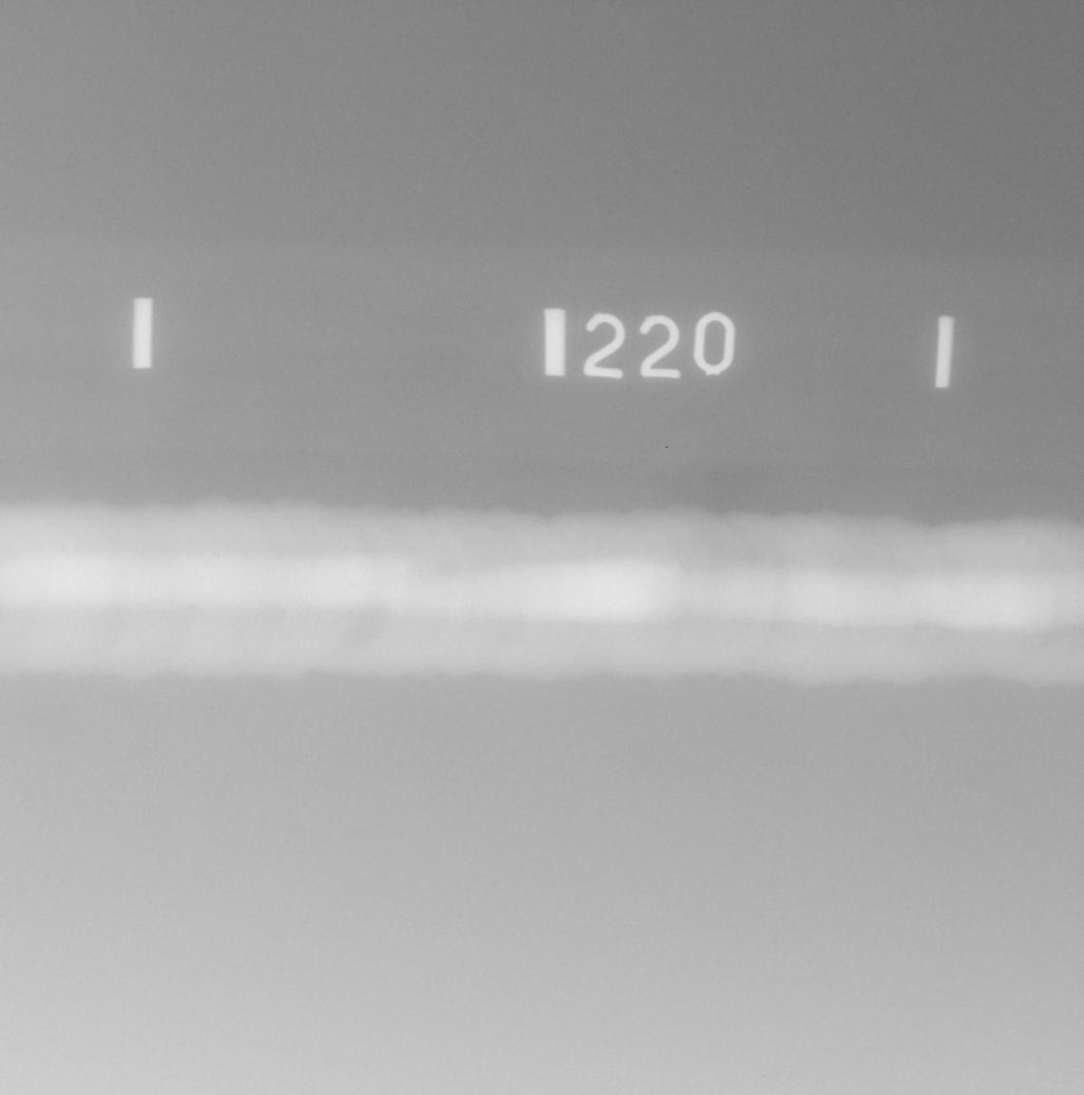Pore/Porosity: (187, 605, 195, 611), (204, 558, 210, 565), (350, 582, 355, 587)
